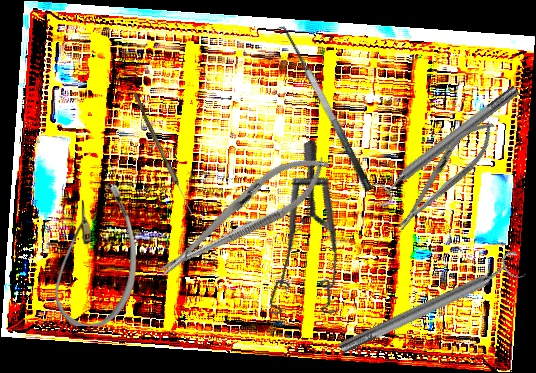Cannula: (55, 184, 136, 326)
Fixation Ring: (333, 248, 528, 363), (365, 78, 527, 210)
Needle Holder: (147, 139, 340, 292), (385, 111, 505, 240)
Spatula Surgical: (269, 20, 375, 200)
Speculum: (211, 138, 384, 338)
Surgical Spoon: (130, 92, 196, 216)
